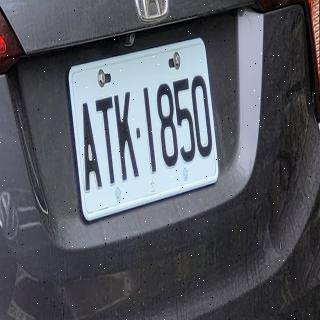license: (67, 35, 222, 228)
